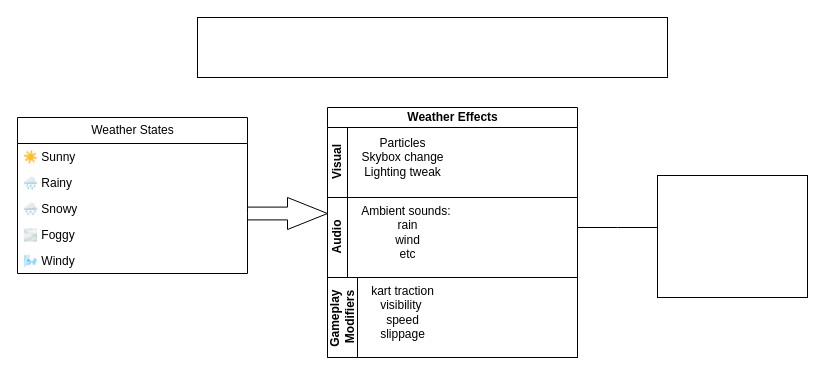
The diagram is 825 pixels wide and 375 high, and some of its shapes have lost their labels. Each missing label, with the centre of its shape:
"Weather Engine" goes at (x=432, y=47).
"Weather Transition System: smooth blending between weather states" goes at (x=732, y=236).
